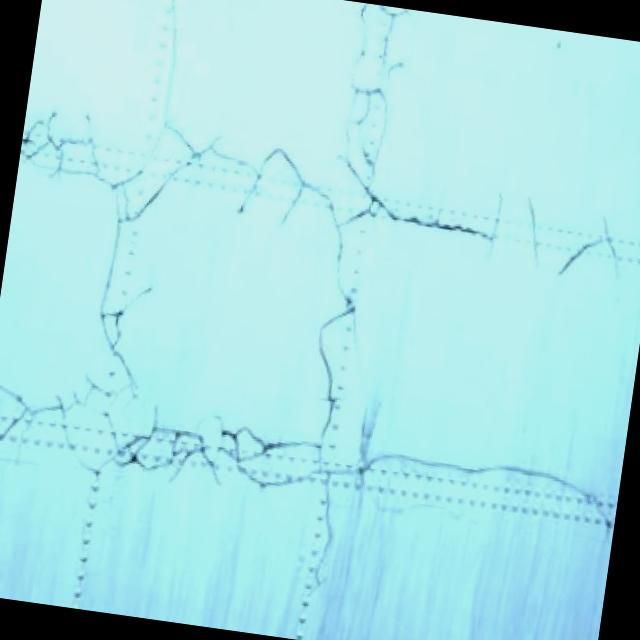crack: (13, 98, 640, 295), (0, 377, 617, 554), (252, 144, 408, 606), (69, 0, 191, 486), (331, 3, 416, 150)
